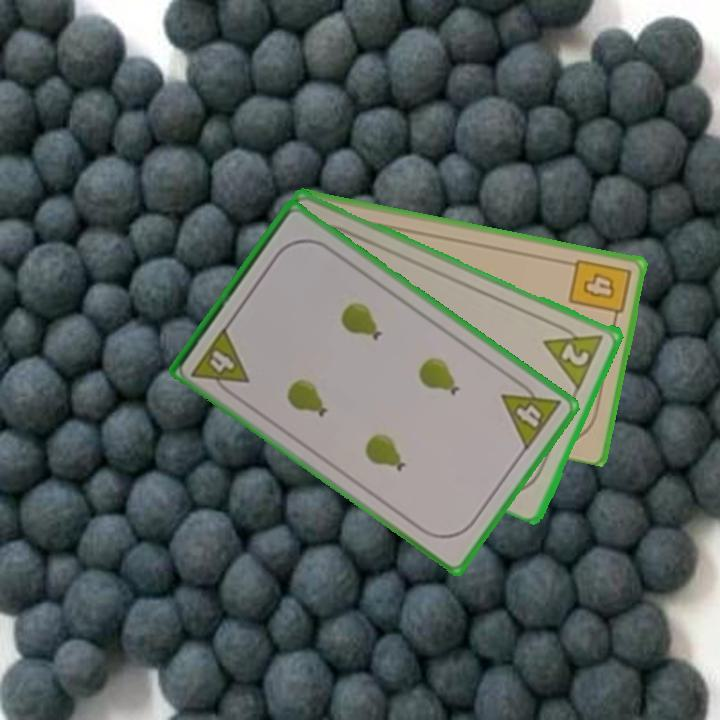2p: (540, 317, 607, 391)
4b: (565, 255, 634, 326)
4p: (497, 373, 565, 454), (188, 323, 252, 401)
